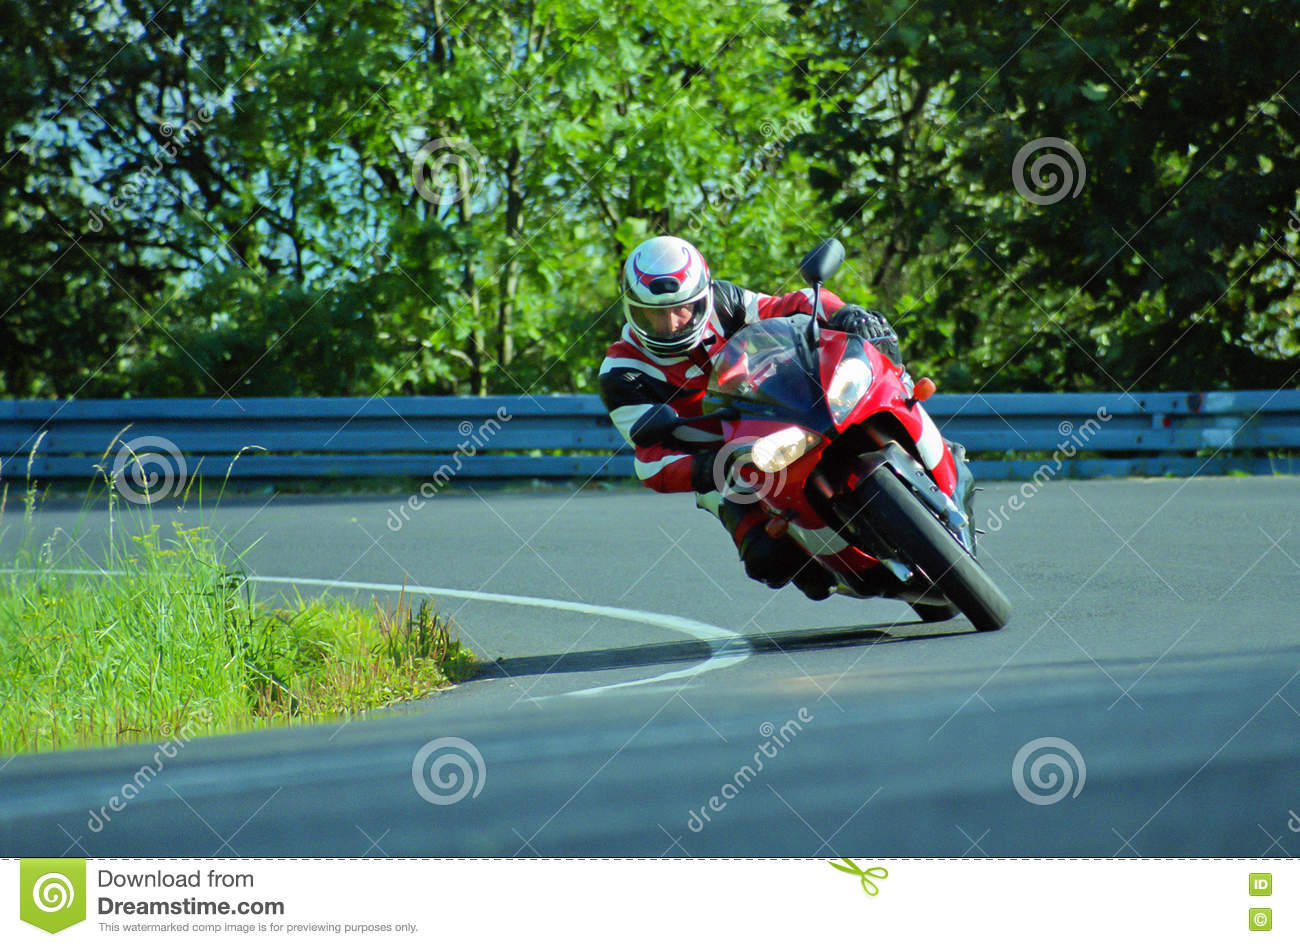helmet: (614, 245, 716, 352)
